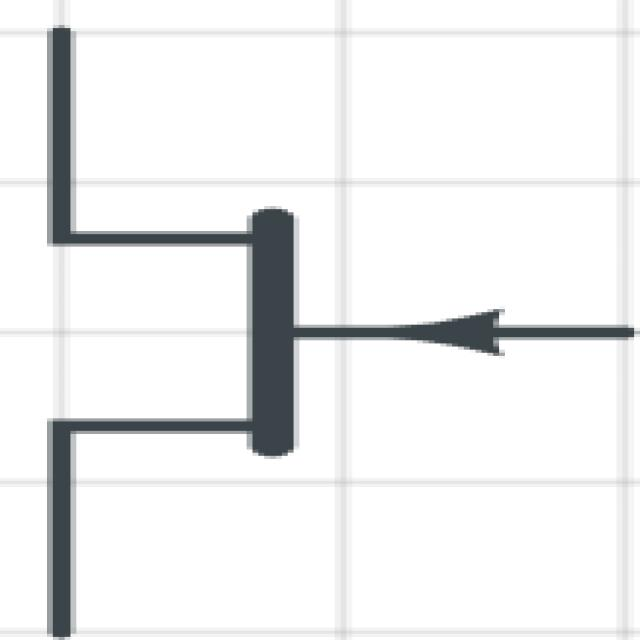nmos: (1, 11, 640, 634)
